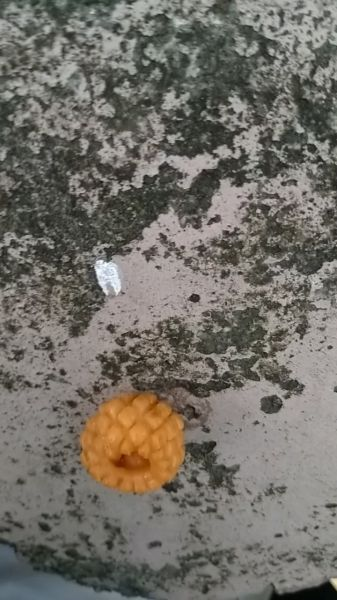eggs: (75, 384, 192, 496)
